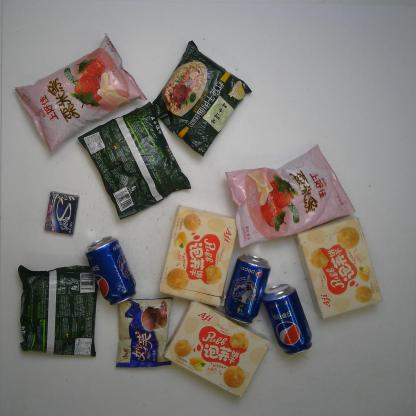Dessert: (162, 300, 270, 399), (294, 213, 382, 319), (160, 204, 238, 306), (113, 297, 174, 370)
Drink: (85, 234, 138, 304), (263, 283, 313, 355), (224, 254, 271, 325)
Gum: (43, 191, 79, 235)
Instant Noodles: (78, 101, 191, 219), (151, 40, 254, 156), (15, 264, 102, 358)
Puffed Food: (13, 31, 147, 154), (225, 145, 355, 248)
